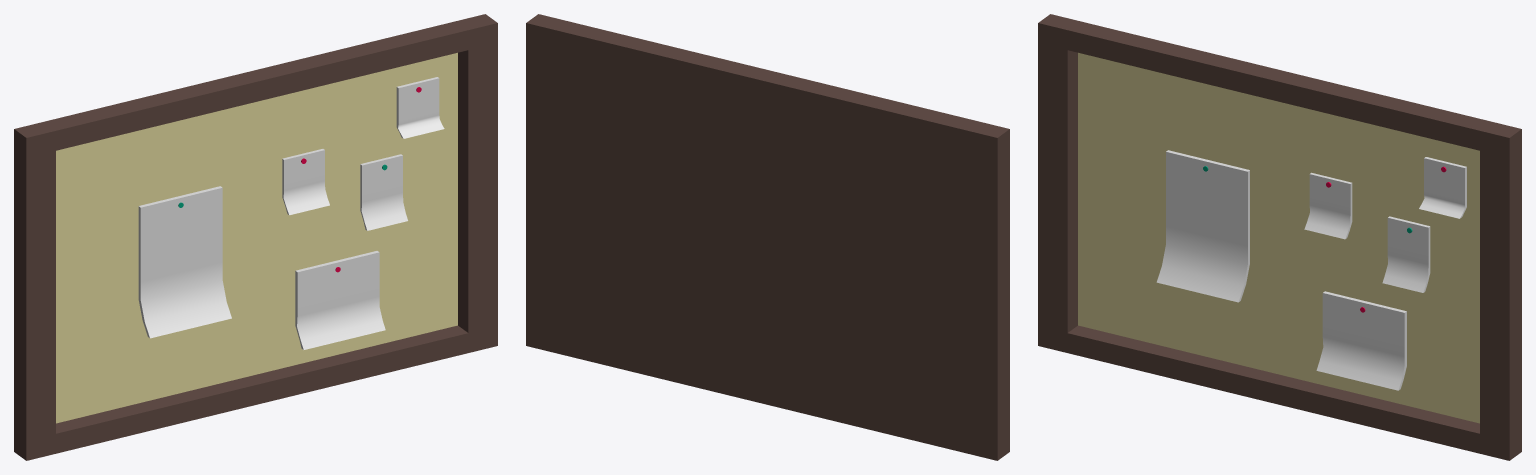
Rendered from Tableau affichage.fbx.
3 renders of one model, left to right at view 1: azimuth 30°, elevation 25°; view 2: azimuth 150°, elevation 25°; view 3: azimuth 330°, elevation 25°, orthographic.
Visible parts, largest first — view 1: Tableau_affichage1; view 2: Tableau_affichage1; view 3: Tableau_affichage1.
Part boxes in pixels (left/top/right/bottom): Tableau_affichage1: left=14, top=14, right=497, bottom=460; Tableau_affichage1: left=526, top=14, right=1009, bottom=460; Tableau_affichage1: left=1038, top=14, right=1521, bottom=460.
Bounding box in the file's own units: 1 × 0.6547 × 0.0548.
